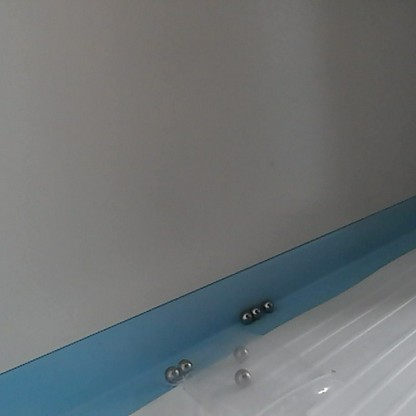ironball: (230, 366, 256, 388), (162, 364, 183, 383), (176, 355, 195, 375), (236, 309, 254, 326), (259, 295, 275, 310), (234, 344, 250, 359), (250, 302, 263, 316)
